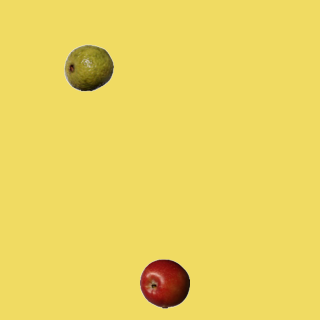Apple Braeburn: (139, 258, 189, 308)
Guava: (63, 42, 113, 92)
